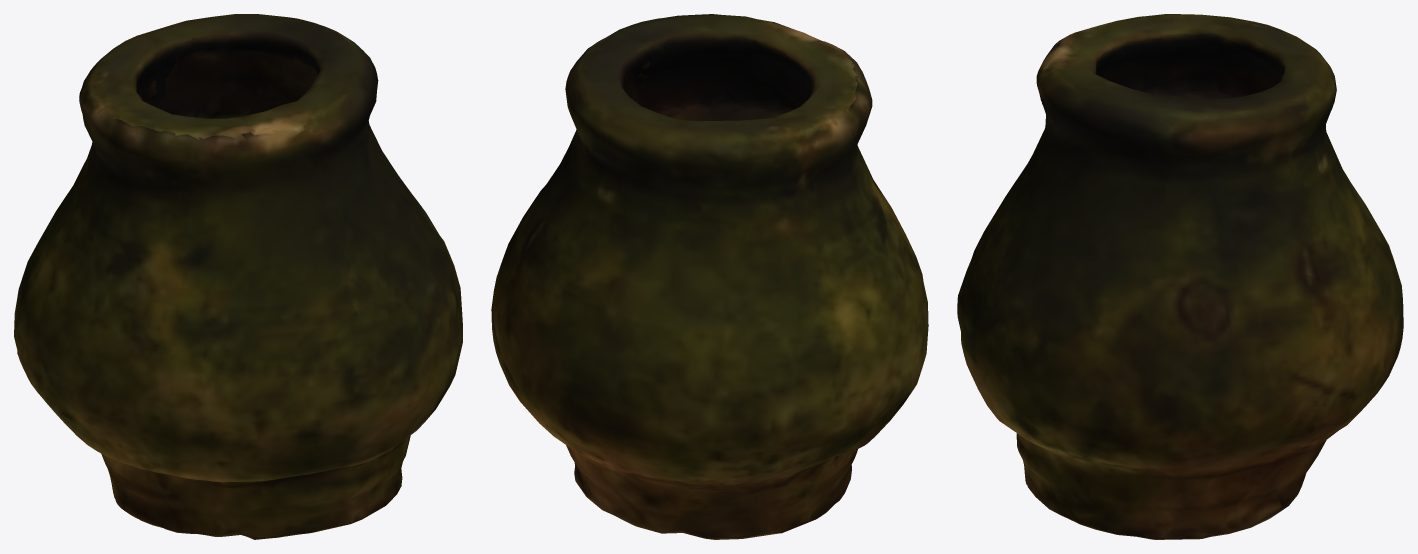
Rendered from hm-green-glazed-pot.lod1.glb.
3 renders of one model, left to right at view 1: azimuth 30°, elevation 25°; view 2: azimuth 150°, elevation 25°; view 3: azimuth 270°, elevation 25°, orthographic.
Parts seen in each view (by area): view 1: Object_2; view 2: Object_2; view 3: Object_2.
Boxes of the visible parts, bbox=[...] form: Object_2: bbox=[14, 14, 462, 539]; Object_2: bbox=[491, 14, 928, 539]; Object_2: bbox=[957, 14, 1403, 539].
Bounding box in the file's own units: 0.1208 × 0.13 × 0.123.
1 material, 1 textured.
